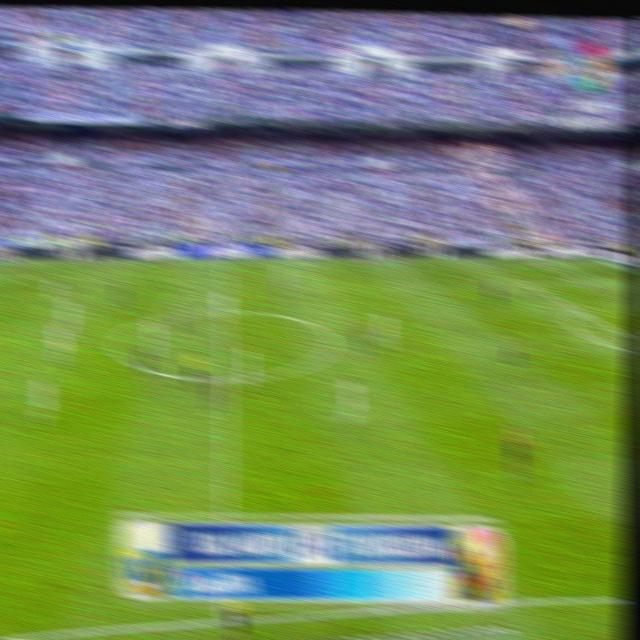corner: (588, 252, 604, 265)
halfcircle_bottom: (217, 366, 235, 390)
midline_bottom_intersection: (215, 498, 235, 523)
midline_top_intersection: (218, 254, 234, 268)
top_arc_area_intersection: (571, 302, 586, 316)
